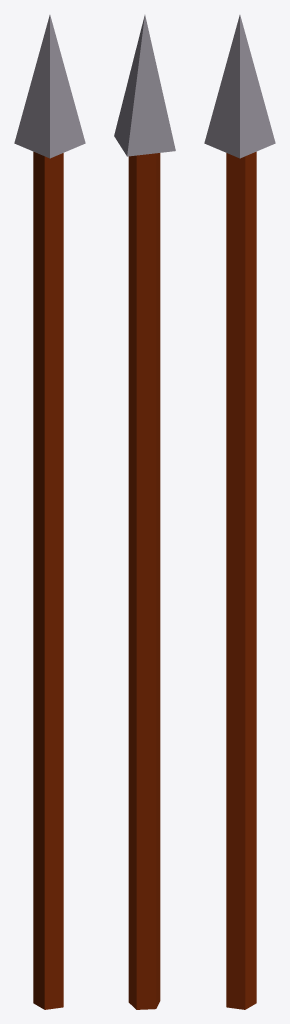
Rendered from Spear.fbx.
3 views of the same model, side by side, from view 1: azimuth 90°, elevation 25°; view 2: azimuth 150°, elevation 25°; view 3: azimuth 270°, elevation 25° (orthographic).
Parts seen in each view (by area): view 1: Cylinder; view 2: Cylinder; view 3: Cylinder.
Part boxes in pixels (x1,y1,x2,y2): Cylinder: (14,15,85,1009); Cylinder: (114,15,175,1009); Cylinder: (204,15,275,1009).
Bounding box in the file's own units: 8.37 × 128 × 8.37.
